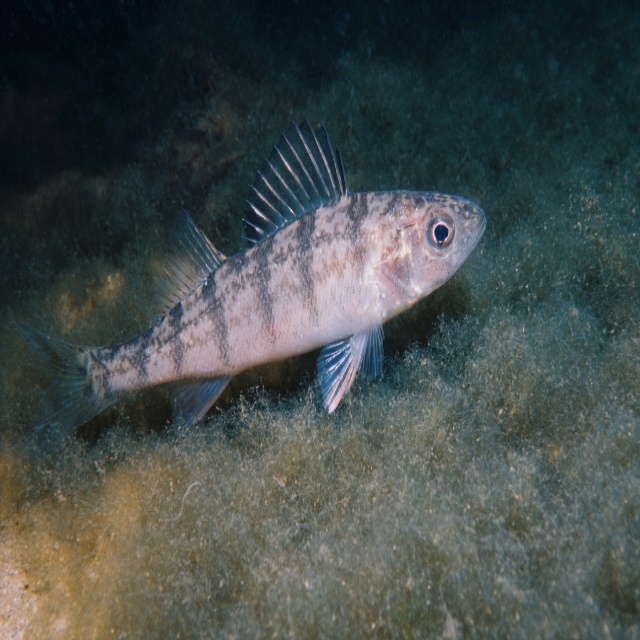Fish: (16, 117, 488, 453)
